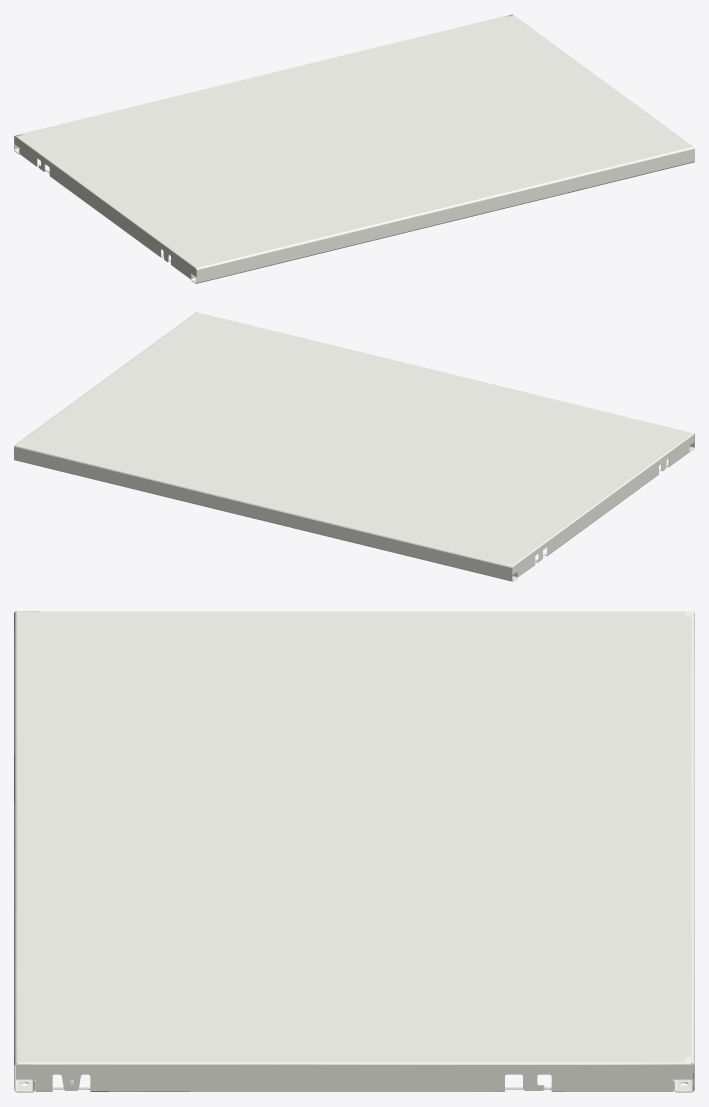
Rendered from boaxel_poka_40448734.glb.
The picture shows the model from 3 angles, top to bottom: view 1: azimuth 30°, elevation 25°; view 2: azimuth 150°, elevation 25°; view 3: azimuth 270°, elevation 25°; orthographic projection. The views are drawn at different scales.
Visible parts, largest first — view 1: boaxel_poka_40448734; view 2: boaxel_poka_40448734; view 3: boaxel_poka_40448734.
Part boxes in pixels (bbox=[...]): boaxel_poka_40448734: bbox=[14, 14, 694, 283]; boaxel_poka_40448734: bbox=[14, 312, 694, 581]; boaxel_poka_40448734: bbox=[14, 610, 694, 1092].
Size of the model in its own units: 0.598 by 0.018 by 0.38.
Materials: 1 (1 with a texture image).
